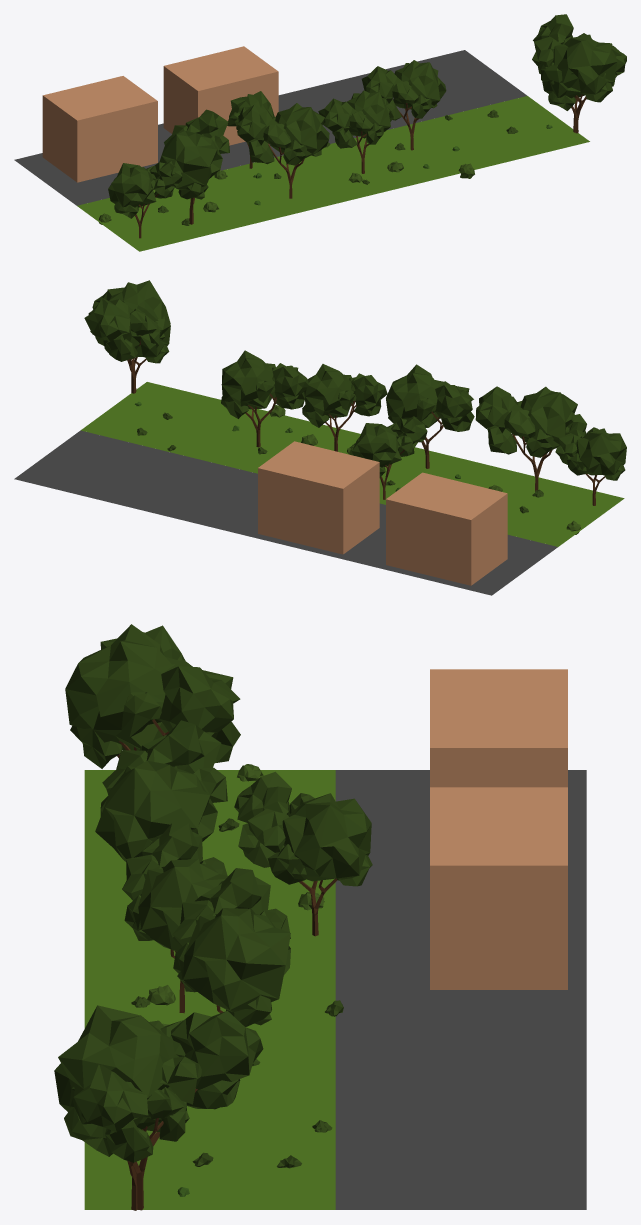
Rendered from city_nature_left1.glb.
The picture shows the model from 3 angles, top to bottom: view 1: azimuth 30°, elevation 25°; view 2: azimuth 150°, elevation 25°; view 3: azimuth 270°, elevation 25°; orthographic projection. The views are drawn at different scales.
Parts seen in each view (by area): view 1: ground.010, Scatter.024, Cube.023, Cube.024, Scatter.025; view 2: ground.010, Scatter.024, Cube.023, Cube.024, Scatter.025; view 3: ground.010, Scatter.024, Cube.024, Cube.023, Scatter.025.
Part boxes in pixels (x1,y1,x2,y2): ground.010: [14, 50, 589, 251]; Scatter.024: [108, 14, 626, 238]; Cube.023: [42, 76, 157, 182]; Cube.024: [163, 46, 278, 145]; Scatter.025: [99, 109, 552, 225]; ground.010: [14, 382, 624, 595]; Scatter.024: [84, 280, 626, 505]; Cube.023: [386, 472, 507, 585]; Cube.024: [258, 441, 379, 554]; Scatter.025: [135, 401, 580, 534]; ground.010: [84, 770, 586, 1209]; Scatter.024: [54, 624, 372, 1210]; Cube.024: [430, 787, 567, 989]; Cube.023: [430, 669, 567, 787]; Scatter.025: [131, 764, 343, 1196].
Size of the model in its own units: 62.95 by 12.82 by 28.63.
